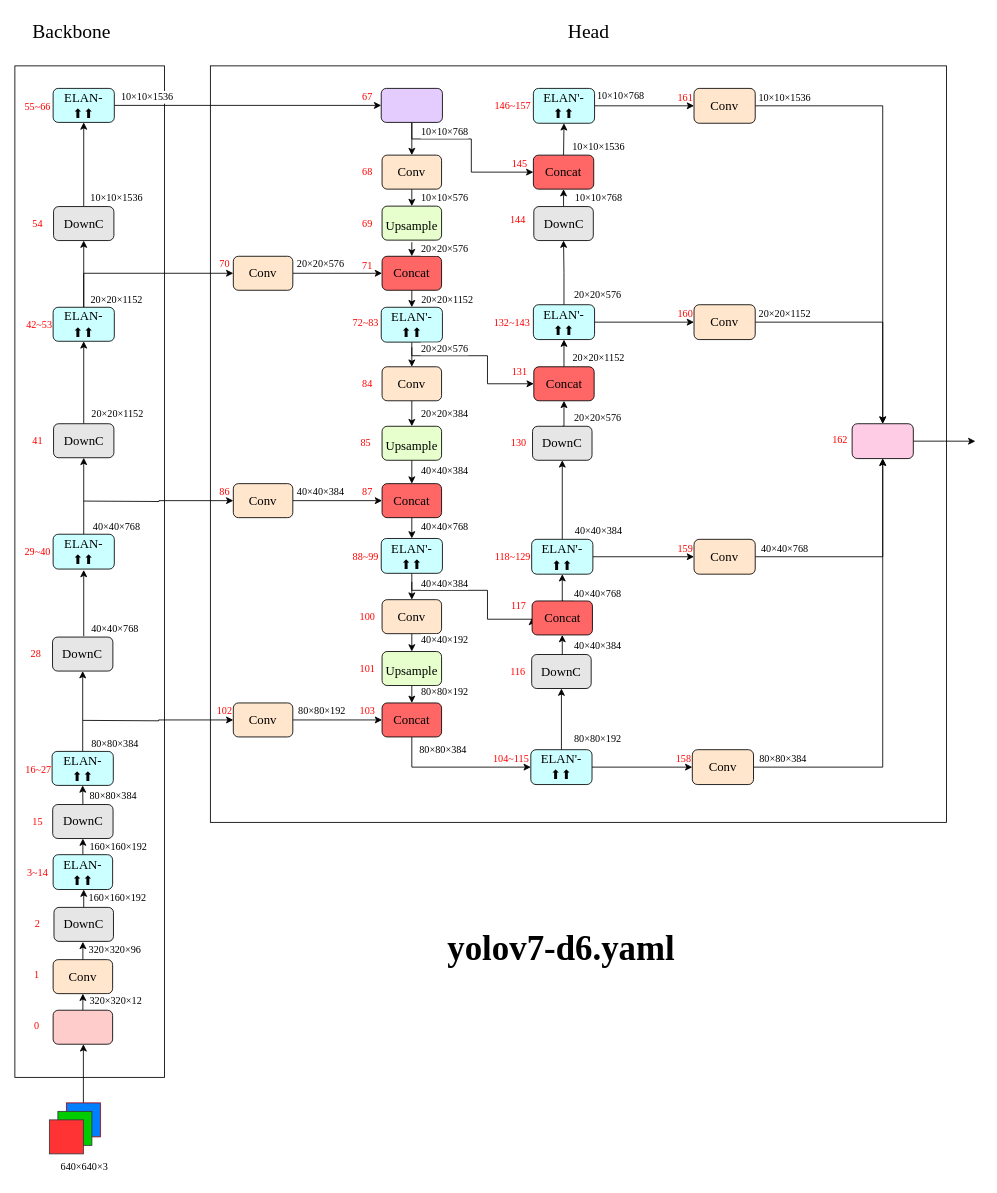
The diagram is 997 pixels wide and 1193 high, and some of its shapes have lost their labels. The box of each missing label's shape, as (x1, y1, x2, y2) in pixels:
Detect: (851, 423, 913, 459)
ReOrg: (52, 1009, 113, 1044)
SPPCSPC: (380, 88, 442, 122)
